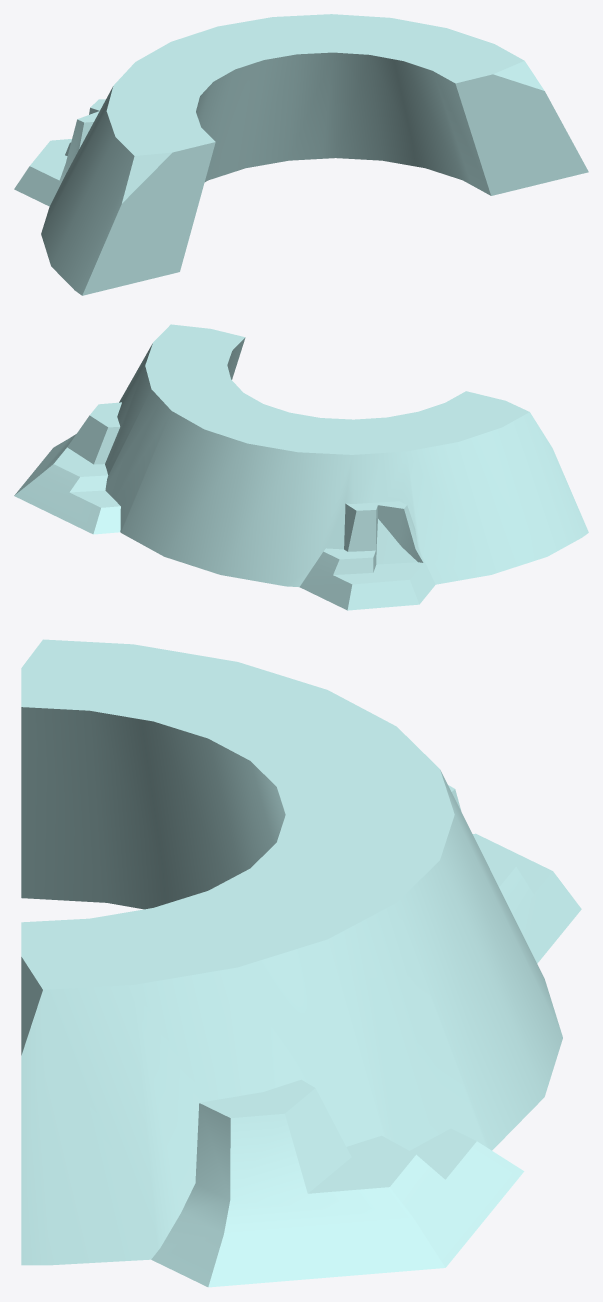
Rendered from snowFort.fbx.
The picture shows the model from 3 angles, top to bottom: view 1: azimuth 30°, elevation 25°; view 2: azimuth 150°, elevation 25°; view 3: azimuth 270°, elevation 25°; orthographic projection. The views are drawn at different scales.
Visible parts, largest first — view 1: snowFort; view 2: snowFort; view 3: snowFort.
Boxes of the visible parts, bbox=[...] form: snowFort: bbox=[14, 14, 588, 295]; snowFort: bbox=[14, 324, 588, 610]; snowFort: bbox=[21, 639, 581, 1287].
Size of the model in its own units: 13.32 by 2.9 by 6.61.
